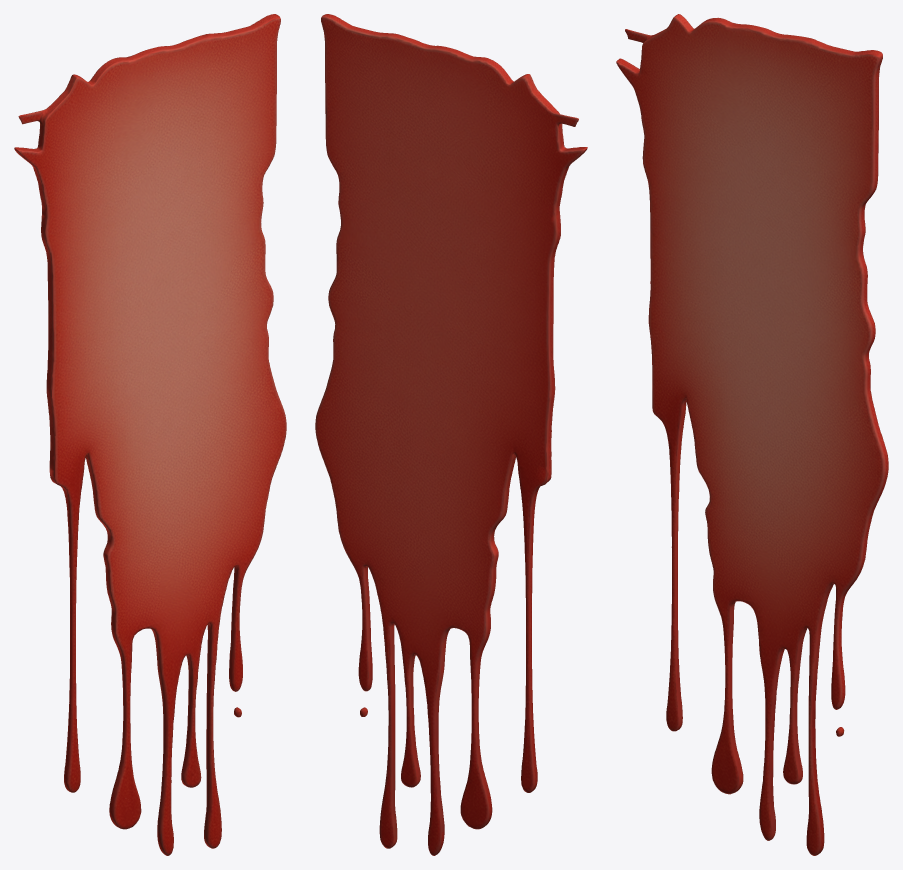
File: blood_decal_2.glb
The picture shows the model from 3 angles, left to right: view 1: azimuth 30°, elevation 25°; view 2: azimuth 150°, elevation 25°; view 3: azimuth 330°, elevation 25°; orthographic projection.
Visible parts, largest first — view 1: mesh_node; view 2: mesh_node; view 3: mesh_node.
Boxes of the visible parts, x1,y1,x2,y2 form: mesh_node: (14, 14, 286, 855); mesh_node: (315, 14, 587, 855); mesh_node: (616, 14, 888, 855).
Bounding box in the file's own units: 0.6542 × 1.9 × 0.0227.
Materials: 1 (1 with a texture image).
